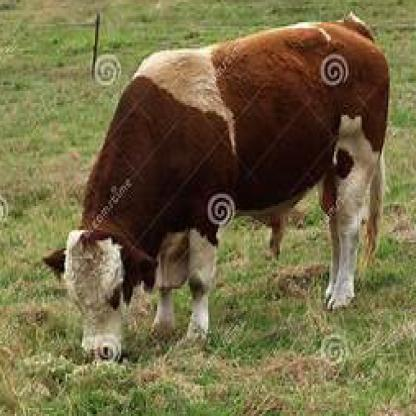cow: (43, 10, 390, 362)
